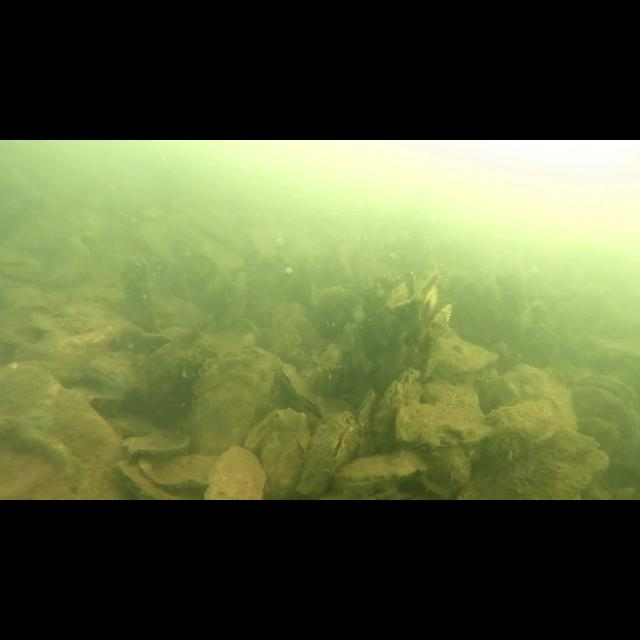Oyster-Closed: (188, 346, 284, 464), (464, 430, 608, 500), (244, 404, 312, 500), (144, 328, 208, 428), (204, 444, 268, 501), (336, 452, 426, 486), (141, 454, 221, 488), (113, 460, 181, 500), (124, 428, 190, 456), (342, 319, 366, 373), (278, 320, 306, 366)
Oyster-Open: (293, 410, 359, 500), (566, 368, 640, 438), (365, 366, 421, 458), (112, 250, 158, 324), (274, 363, 322, 417), (420, 286, 454, 352), (84, 352, 138, 392), (316, 342, 342, 378)
